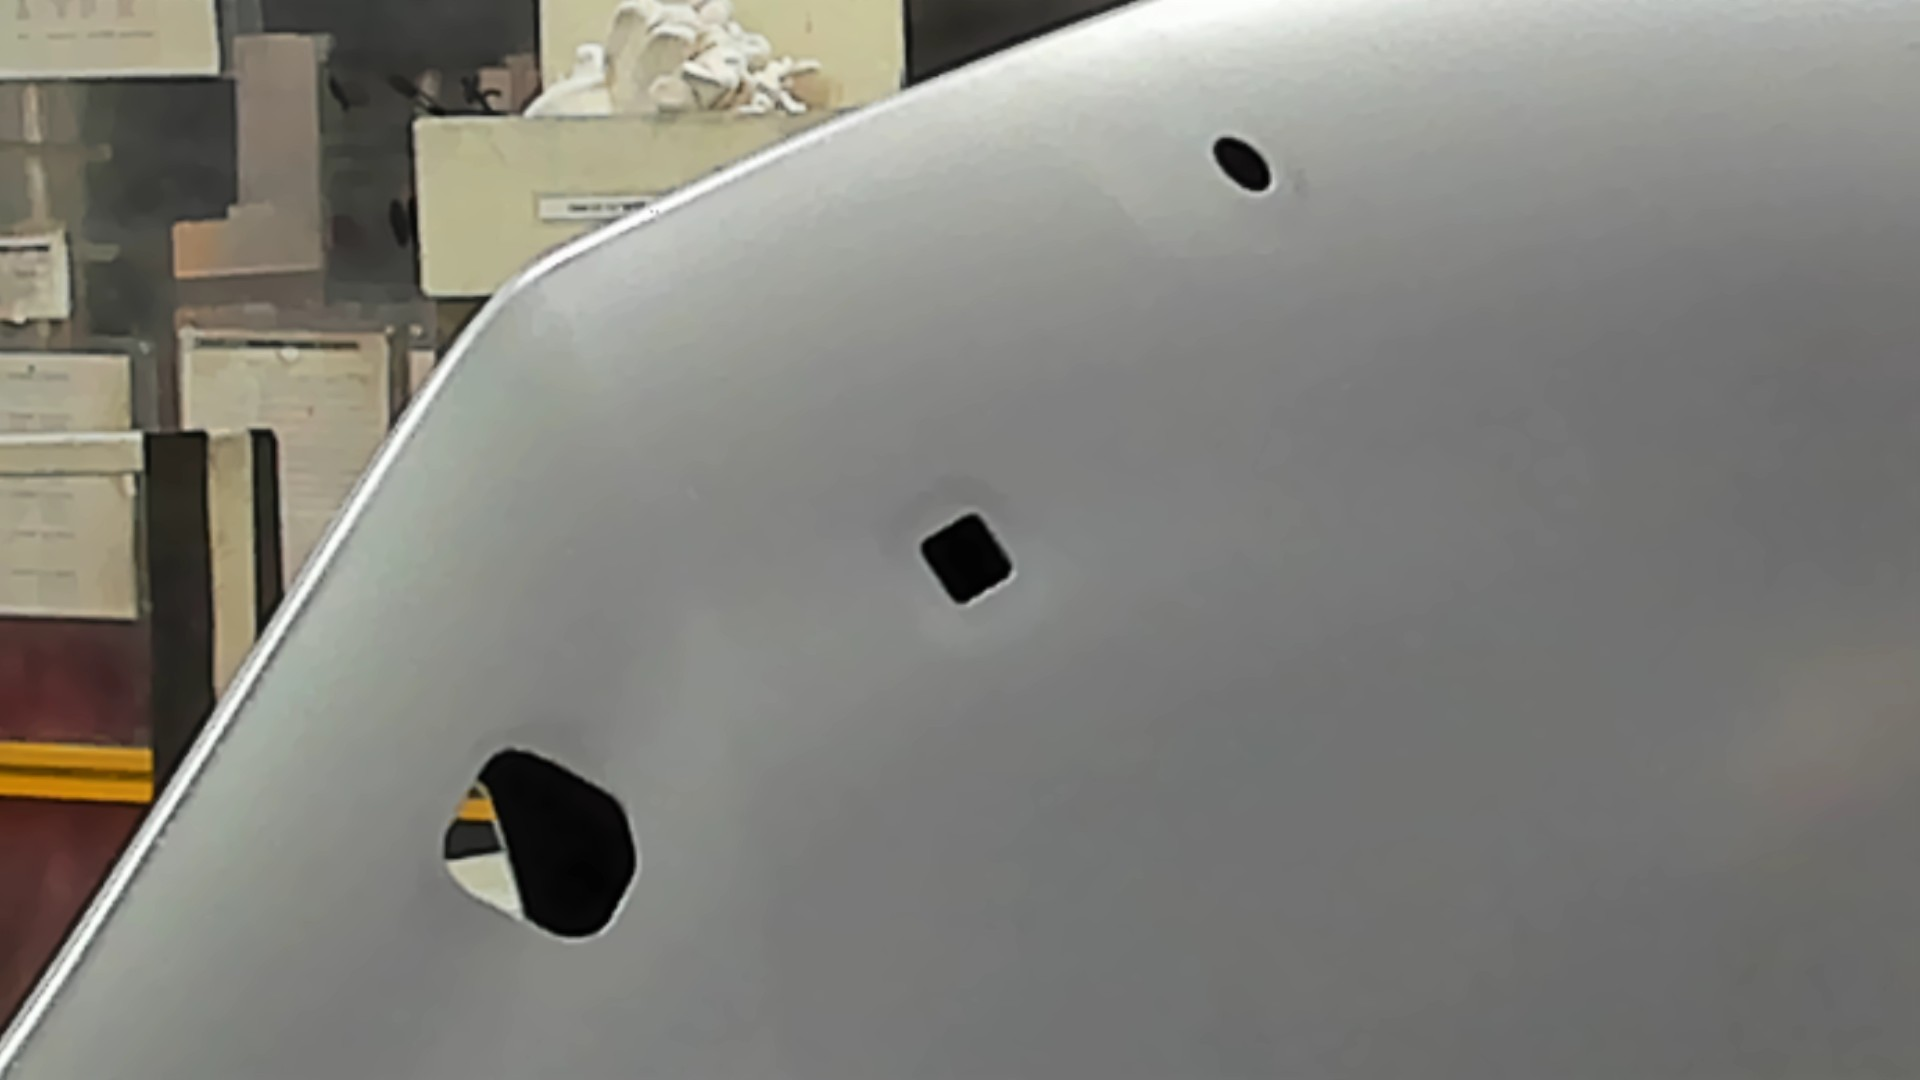capo: (1031, 196, 1920, 1080)
chico: (1209, 133, 1278, 196)
grande: (436, 742, 645, 949)
mediano: (911, 509, 1021, 609)
